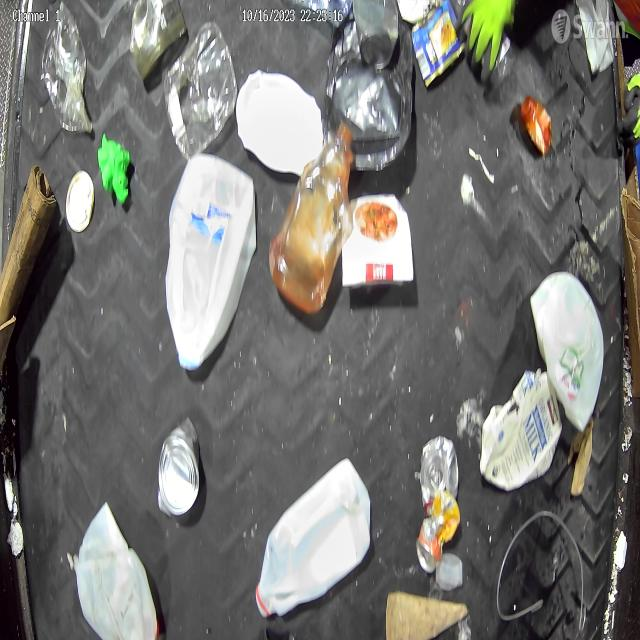can: (129, 1, 187, 81), (158, 416, 200, 519), (416, 489, 461, 574), (353, 0, 399, 71), (419, 435, 459, 506), (64, 167, 95, 233)
milk_jug: (254, 457, 371, 619), (168, 155, 256, 370), (530, 270, 604, 430), (75, 504, 159, 640), (238, 67, 324, 180)
non_white_jug: (480, 369, 562, 491)
